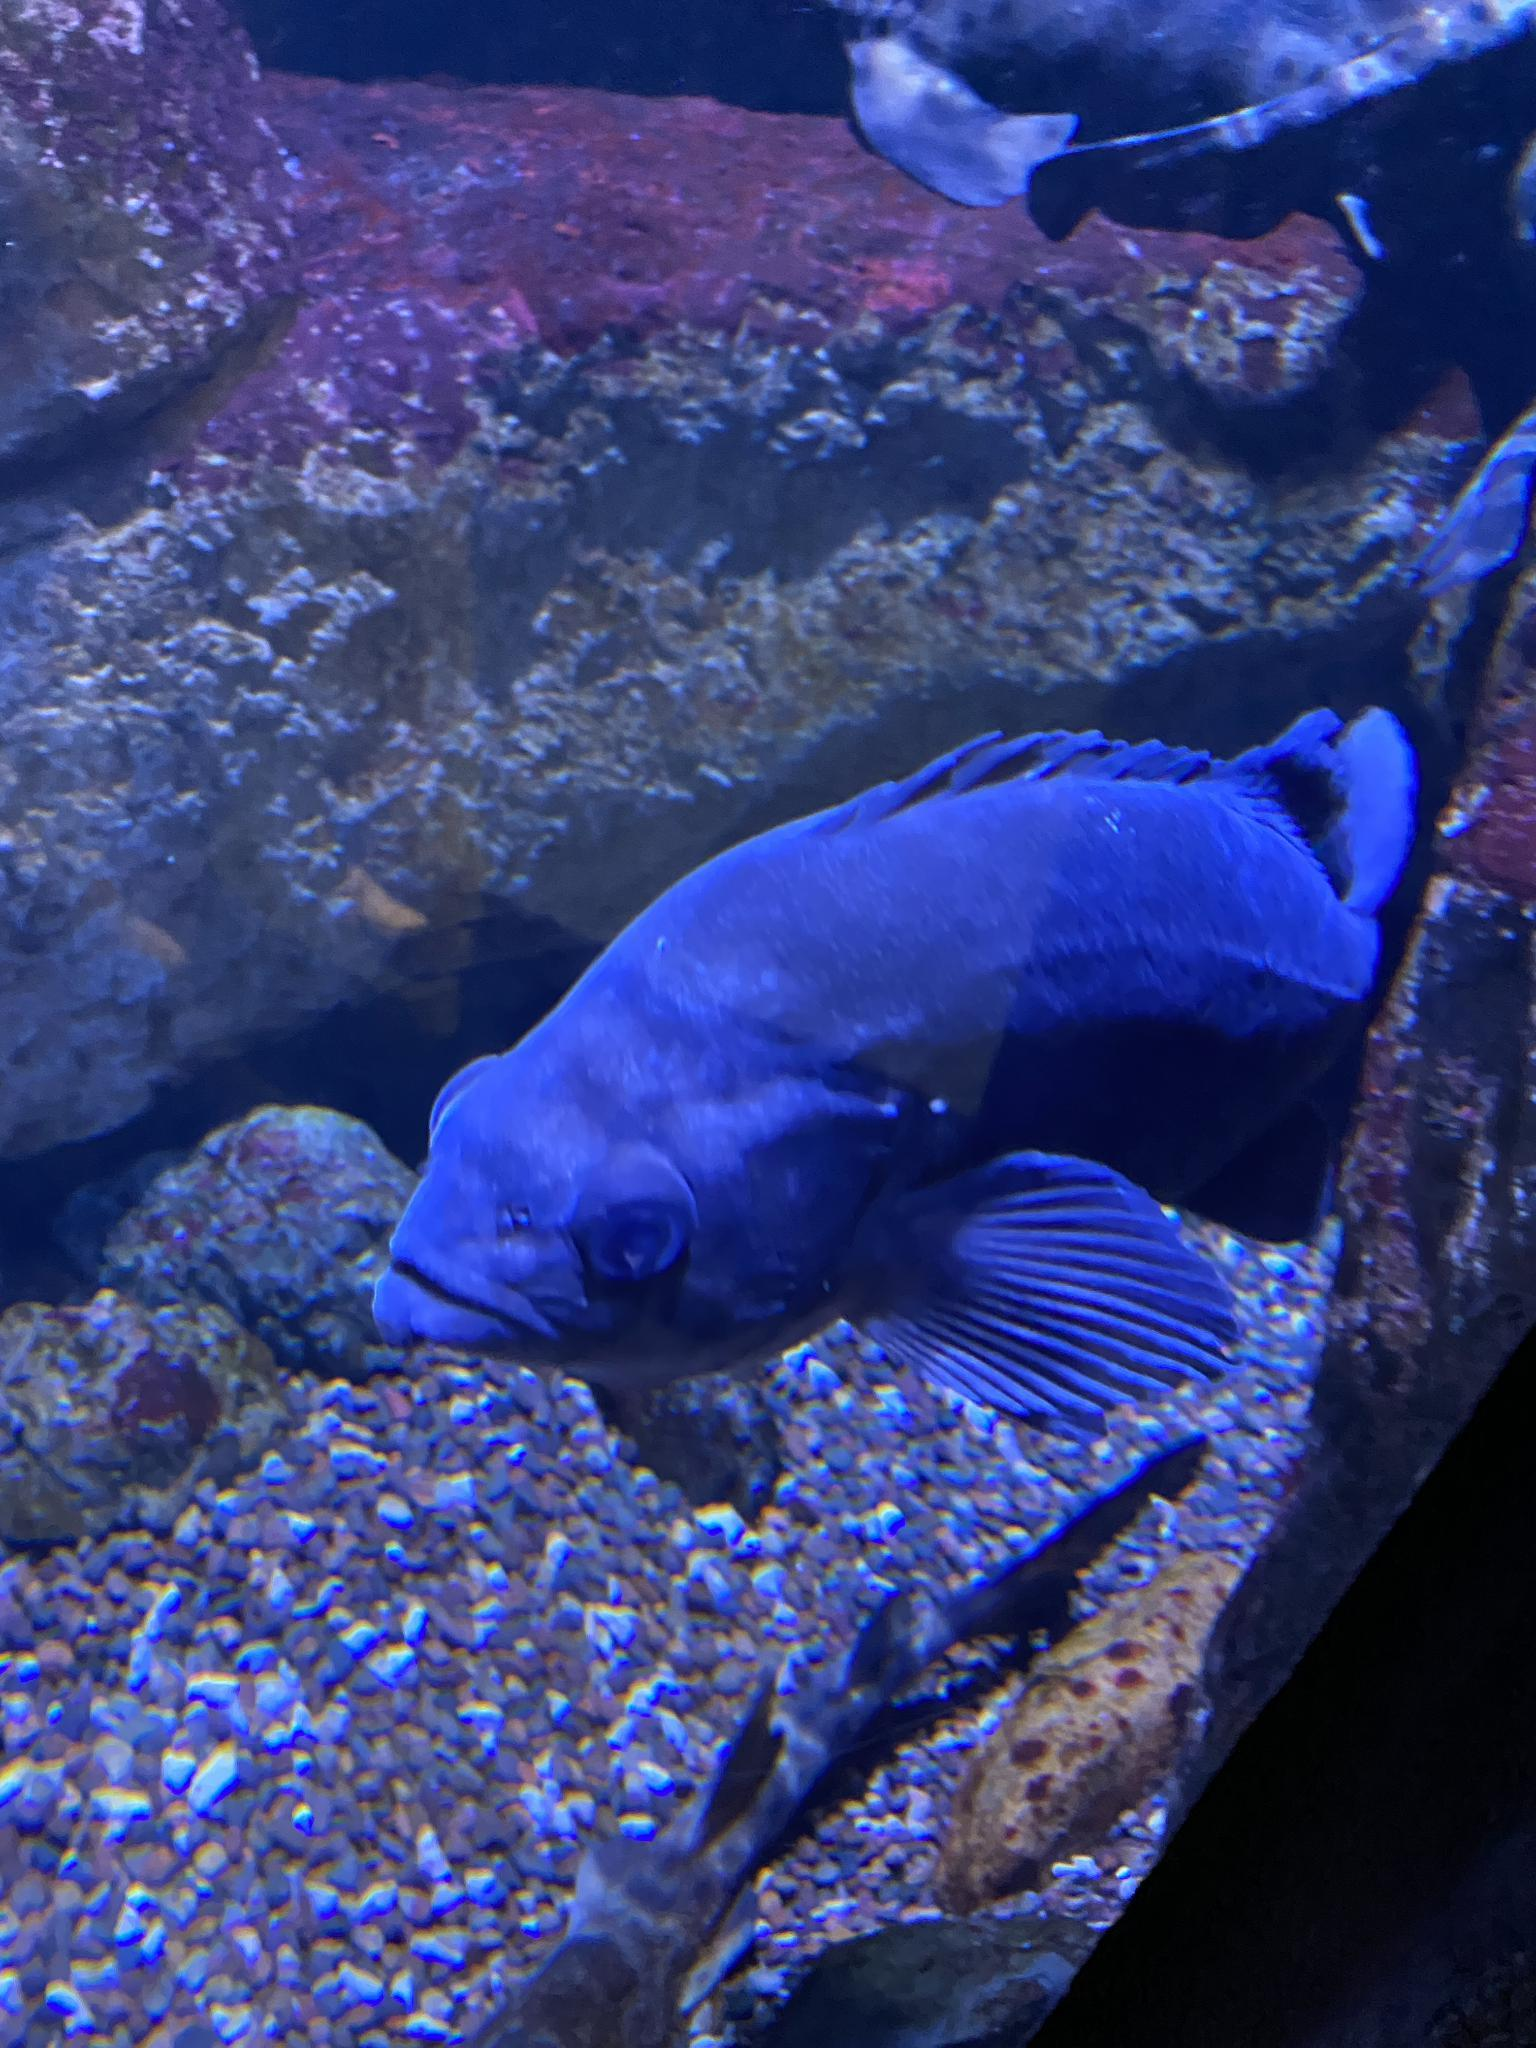fish: (374, 708, 1413, 1447)
shark: (436, 1434, 1204, 2046), (833, 0, 1534, 261)
